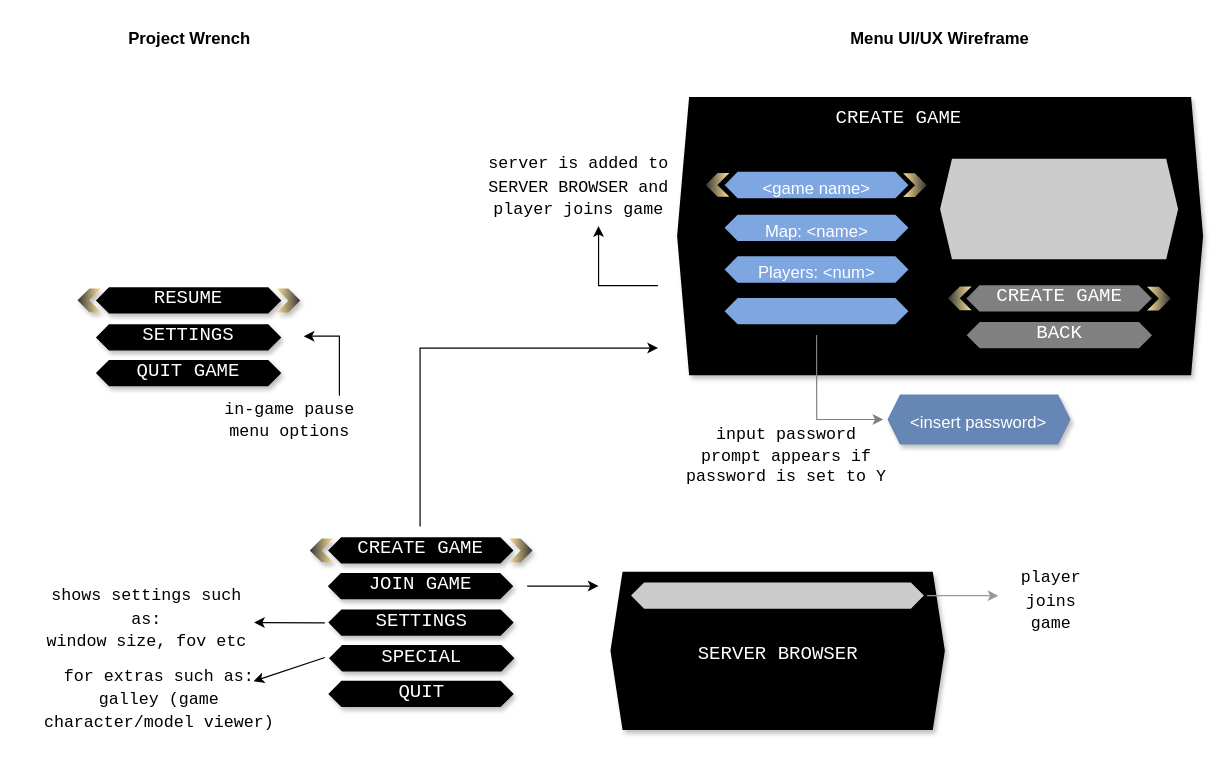
Some shapes in this 1230 by 759 pixel diagram are drawn without their labels. The centre of each missing label's shape, as x and y in pixels:
"<MAP IMG>" belongs at point (1060, 210).
"GAME 1" belongs at point (778, 596).
"Password: <Y/N>" belongs at point (817, 312).
